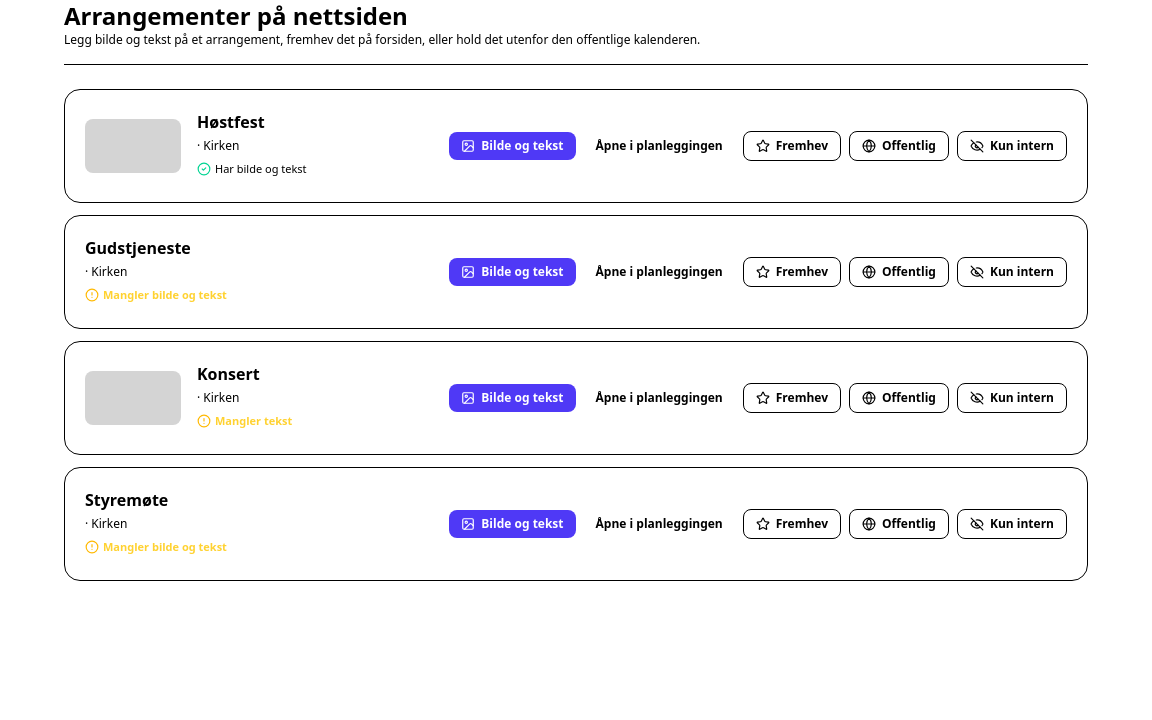
Test: «Arrangementer på nettsiden» i CMS-et › «Bilde og tekst» åpner arrangementets skjema på delen om nettsiden, og lagrer på arrangementet
Click the button "Bilde og tekst" below "Gudstjeneste" at (512,272), box x1=449 y1=258 x2=576 y2=286
(page scrolled)
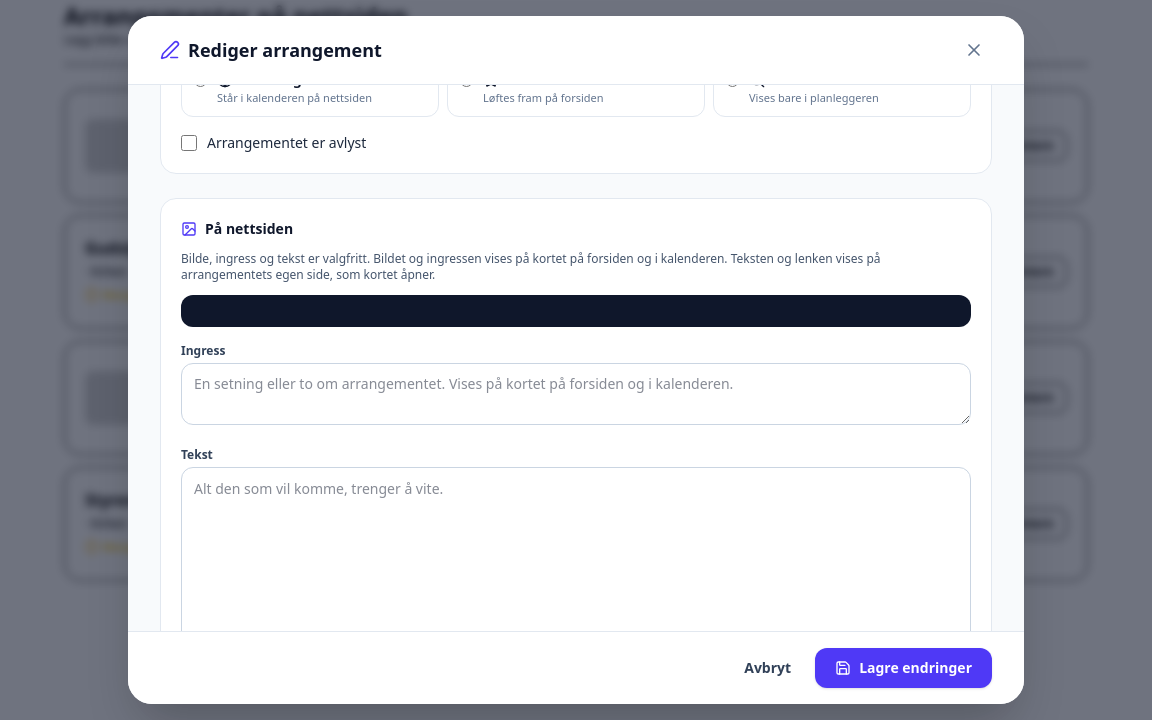
Replace the text in the text box labelled "Ingress" with "Velkommen til gudstjeneste." at (576,394), box x1=181 y1=363 x2=971 y2=425
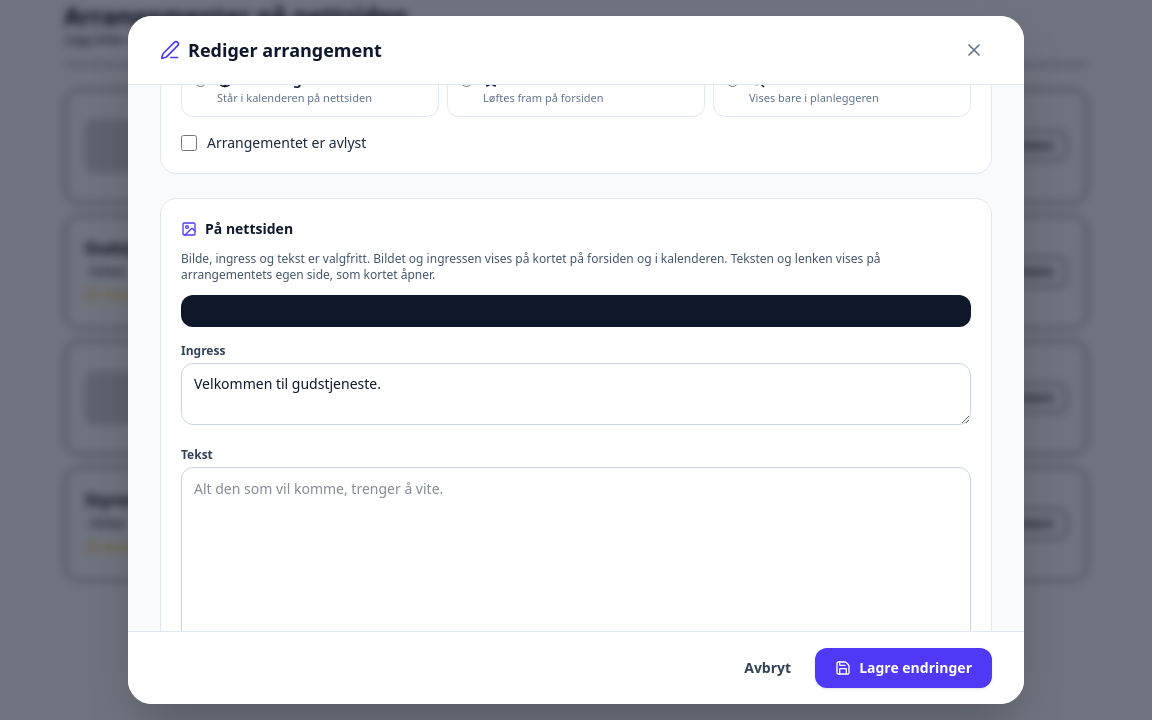
Click the button "Lagre endringer" at (904,668), box x1=815 y1=648 x2=992 y2=688
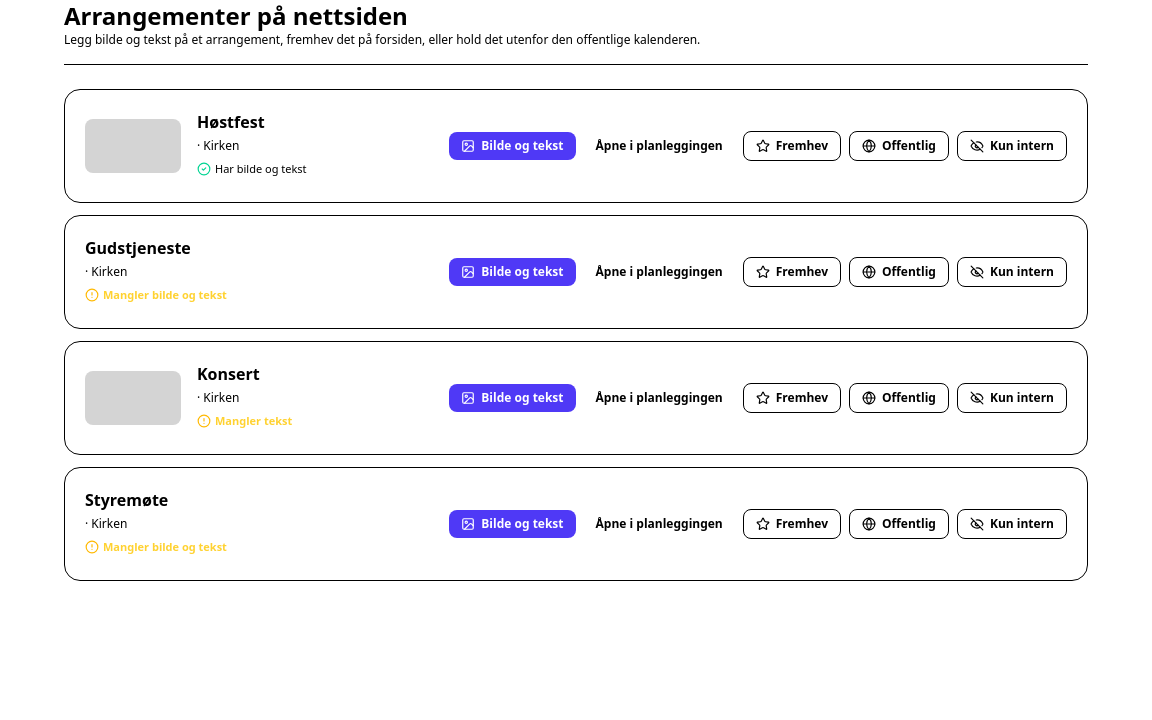
expect the dialog is gone: met
